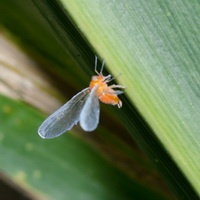insect: (38, 55, 124, 138)
